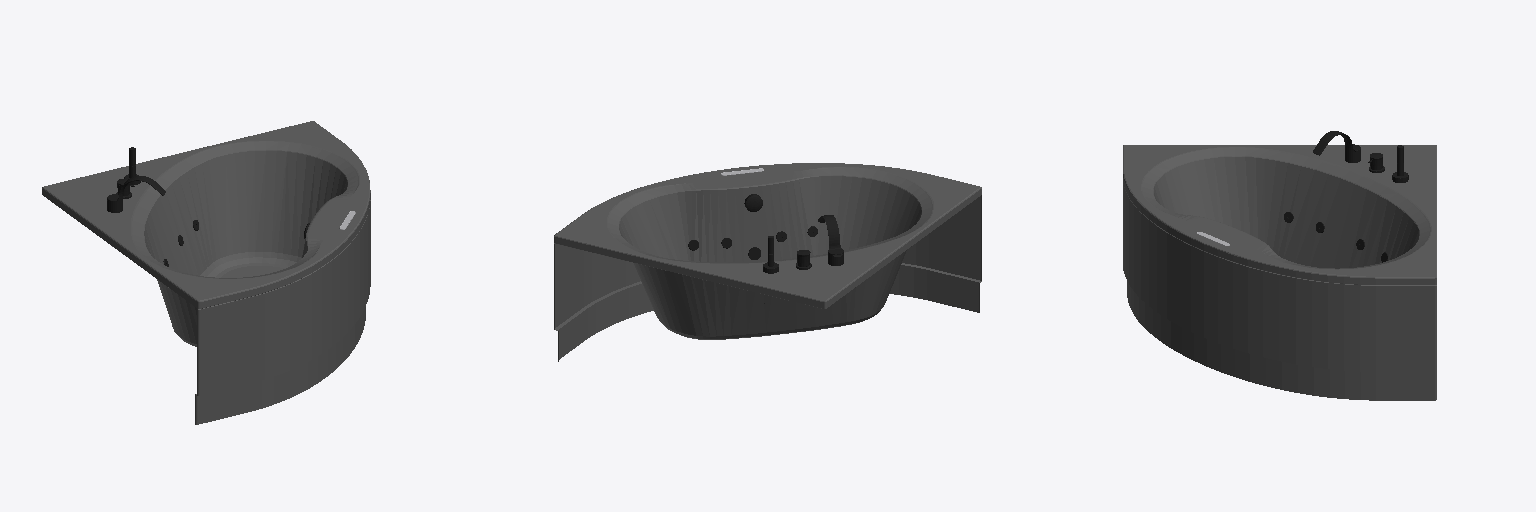
Rendered from Tub.obj.
3 renders of one model, left to right at view 1: azimuth 30°, elevation 25°; view 2: azimuth 150°, elevation 25°; view 3: azimuth 270°, elevation 25°, orthographic.
Parts seen in each view (by area): view 1: IS_ACRYL, IS_AC, Aqua_Tap; view 2: IS_ACRYL, IS_AC, Aqua_Tap, IS_ARMATUR; view 3: IS_AC, IS_ACRYL, Aqua_Tap.
Boxes of the visible parts, x1=… form: IS_ACRYL: x1=42, y1=121, x2=370, y2=346; IS_AC: x1=195, y1=200, x2=370, y2=424; Aqua_Tap: x1=107, y1=147, x2=165, y2=212; IS_ACRYL: x1=554, y1=163, x2=981, y2=339; IS_AC: x1=554, y1=195, x2=981, y2=361; Aqua_Tap: x1=763, y1=215, x2=843, y2=273; IS_ARMATUR: x1=688, y1=194, x2=817, y2=303; IS_AC: x1=1123, y1=184, x2=1436, y2=400; IS_ACRYL: x1=1123, y1=145, x2=1436, y2=284; Aqua_Tap: x1=1313, y1=131, x2=1408, y2=182.
Size of the model in its own units: 1.4 by 0.7863 by 1.4.